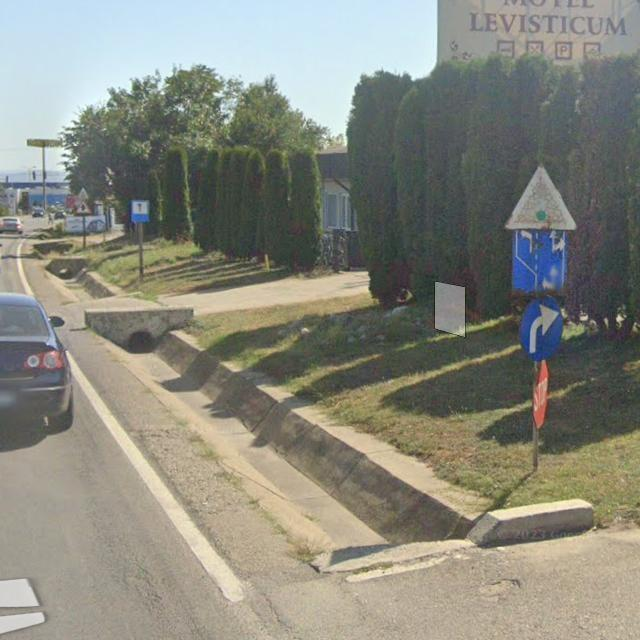prio_stop: (533, 361, 549, 429)
